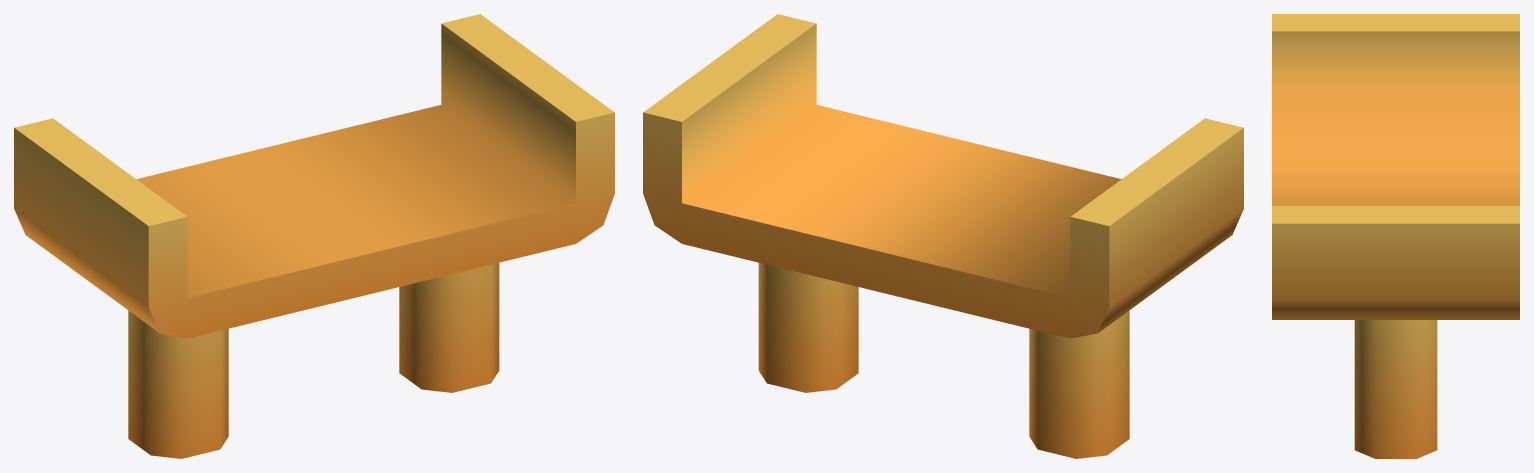
The model's file is kenney-marble-support-color-two-top.glb.
3 renders of one model, left to right at view 1: azimuth 30°, elevation 25°; view 2: azimuth 150°, elevation 25°; view 3: azimuth 270°, elevation 25°, orthographic. The views are drawn at different scales.
Parts seen in each view (by area): view 1: support-color-two-top; view 2: support-color-two-top; view 3: support-color-two-top.
Part boxes in pixels (<box>): support-color-two-top: <box>14,14,614,458</box>; support-color-two-top: <box>643,14,1243,458</box>; support-color-two-top: <box>1272,14,1519,458</box>.
Bounding box in the file's own units: 1.2 × 0.7 × 0.6001.
Materials: 1 (1 with a texture image).
